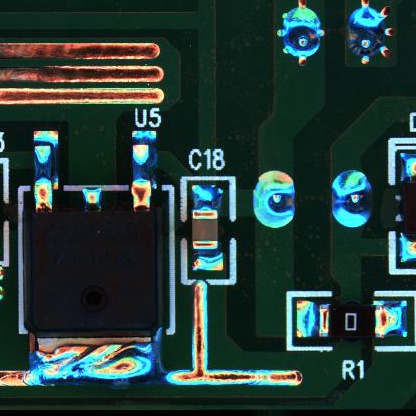spot: (343, 1, 396, 66), (275, 1, 327, 66), (252, 171, 296, 230), (331, 169, 371, 230)
